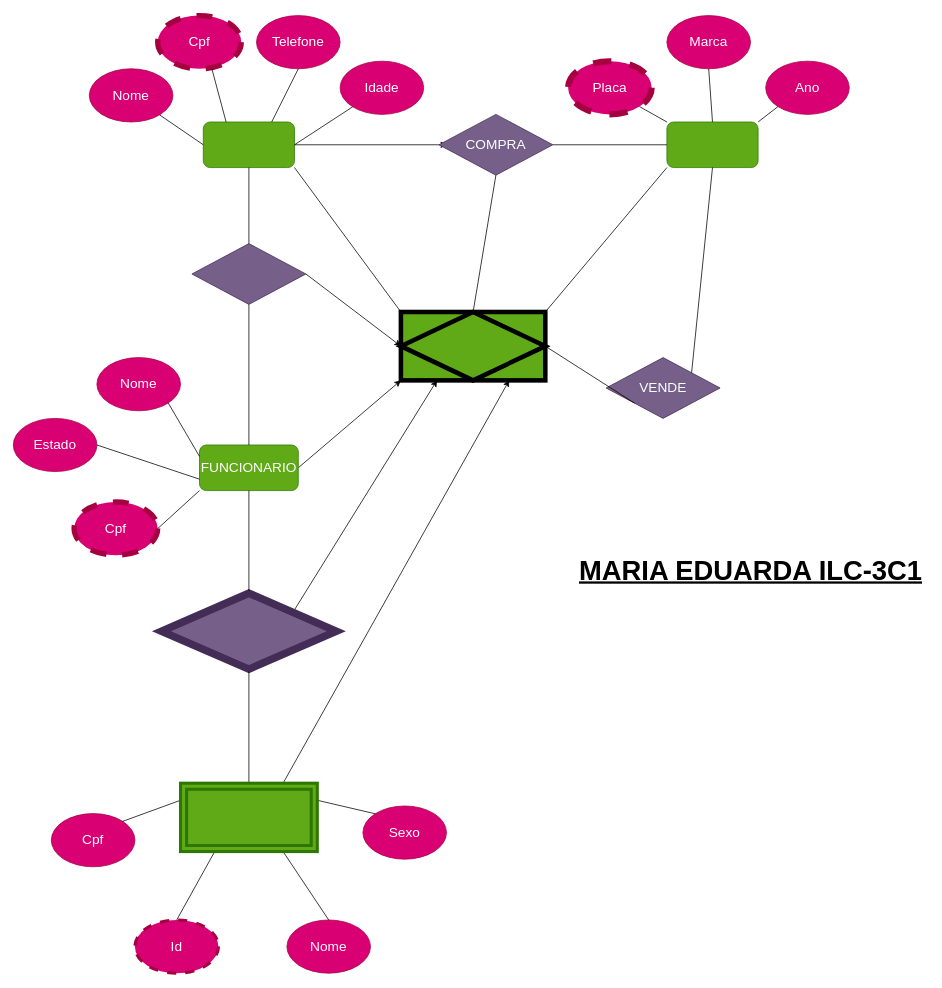
Some shapes in this 942 by 988 pixel diagram are drawn without their labels. Each missing label, with the box of its shape:
ATENDE: (191, 243, 306, 304)
CARRO: (666, 121, 758, 168)
CLIENTE: (203, 121, 294, 168)
CONCESSIONARIA: (398, 309, 547, 382)
EFETUA O TRABALHO: (157, 589, 340, 673)
MECANICO: (179, 781, 318, 853)
